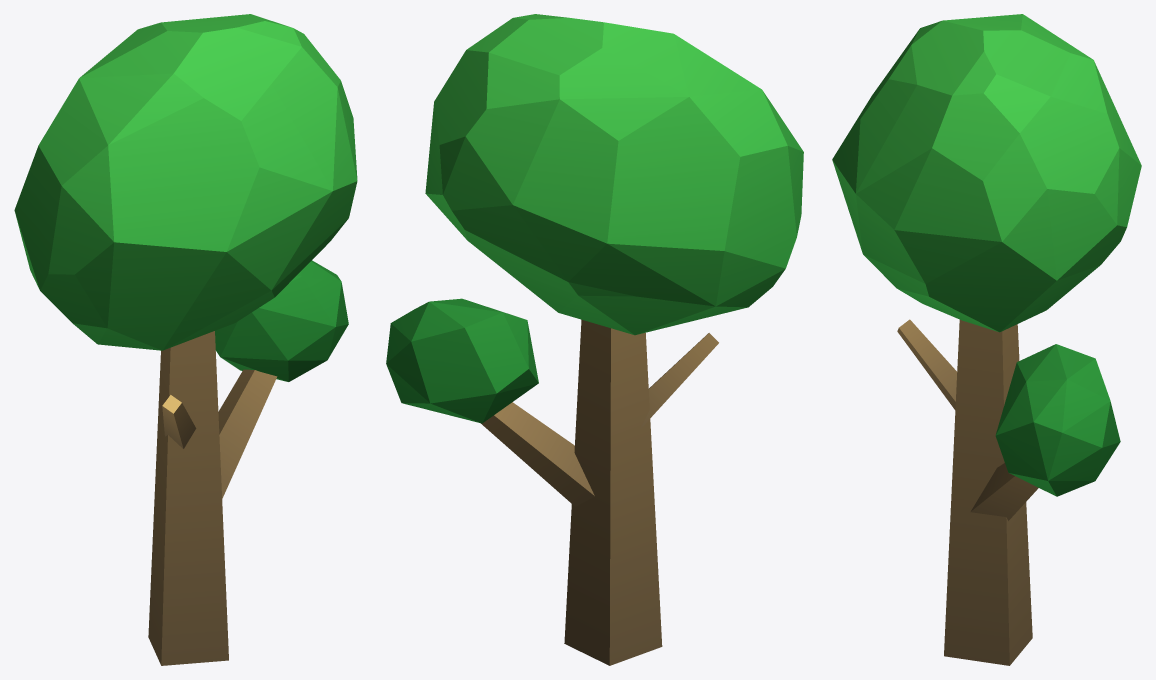
The model's file is Tree_7.fbx.
3 views of the same model, side by side, from view 1: azimuth 30°, elevation 25°; view 2: azimuth 150°, elevation 25°; view 3: azimuth 270°, elevation 25° (orthographic).
Visible parts, largest first — view 1: Tree_7; view 2: Tree_7; view 3: Tree_7.
Boxes of the visible parts, bbox=[...] form: Tree_7: bbox=[14, 14, 357, 665]; Tree_7: bbox=[386, 14, 803, 665]; Tree_7: bbox=[832, 14, 1141, 665].
Bounding box in the file's own units: 379 × 634 × 286.
